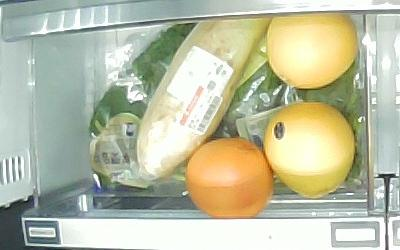grapefruit: (264, 101, 354, 197), (186, 138, 274, 219), (267, 13, 358, 88)
